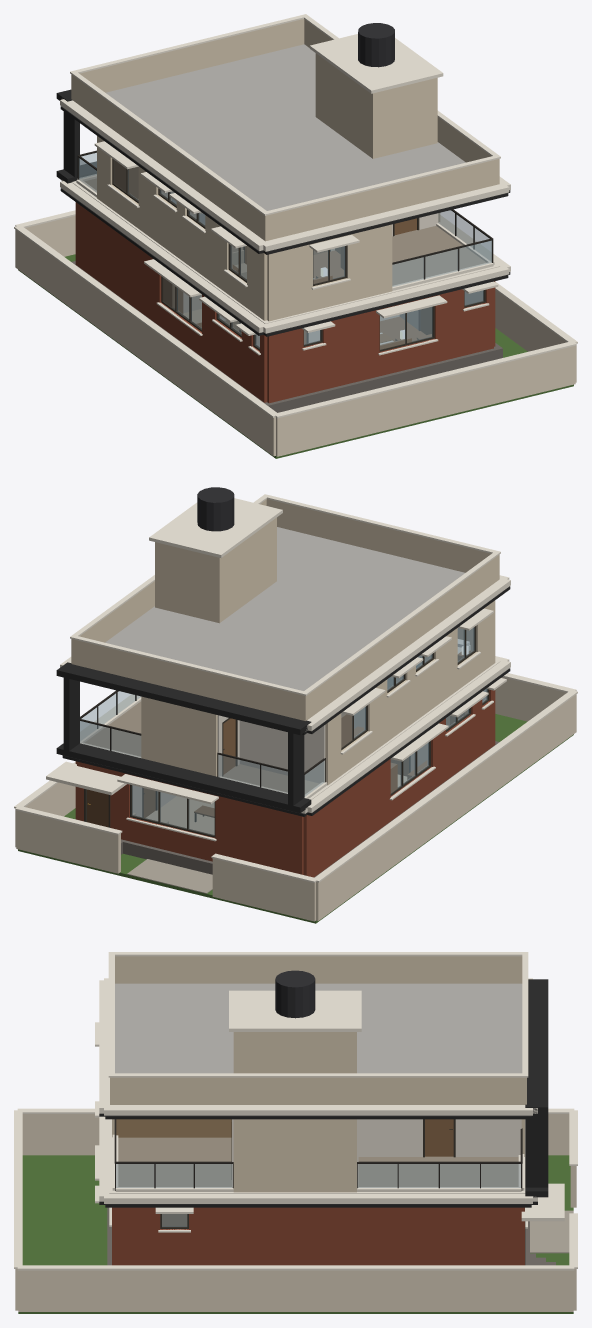
File: house3.glb
The picture shows the model from 3 angles, top to bottom: view 1: azimuth 30°, elevation 25°; view 2: azimuth 150°, elevation 25°; view 3: azimuth 270°, elevation 25°; orthographic projection. The views are drawn at different scales.
Parts seen in each view (by area): view 1: roof__plaster, roof__roof_screed, site__compound_wall, level_0__structure__brick, level_1__structure__plaster, roof__concrete_band, level_0__facade__concrete_band, level_1__facade__concrete_band, site__concrete_band, level_1__structure__concrete_band, level_1__structure__railing_glass, level_1__floors__floor_outdoor (+17 smaller); view 2: roof__plaster, roof__roof_screed, site__compound_wall, level_0__structure__brick, level_1__structure__plaster, level_1__facade__exterior_accent, roof__concrete_band, level_0__facade__concrete_band, site__concrete_band, level_1__structure__railing_glass, level_0__structure__glass, level_1__structure__paint_circulation (+18 smaller); view 3: site__compound_wall, roof__plaster, roof__roof_screed, level_0__structure__brick, site__lawn, roof__concrete_band, level_1__floors__floor_outdoor, level_1__structure__plaster, level_1__facade__exterior_accent, level_1__structure__railing_glass, level_0__facade__concrete_band, site__concrete_band (+11 smaller).
Boxes of the visible parts, <box> form: roof__plaster: <box>71,19,499,241</box>; roof__roof_screed: <box>105,44,465,210</box>; site__compound_wall: <box>15,215,576,456</box>; level_0__structure__brick: <box>75,202,495,403</box>; level_1__structure__plaster: <box>97,136,440,321</box>; roof__concrete_band: <box>70,14,500,215</box>; level_0__facade__concrete_band: <box>60,179,510,333</box>; level_1__facade__concrete_band: <box>60,98,510,251</box>; site__concrete_band: <box>14,210,577,418</box>; level_1__structure__concrete_band: <box>71,141,500,323</box>; level_1__structure__railing_glass: <box>79,153,491,286</box>; level_1__floors__floor_outdoor: <box>84,178,486,285</box>; roof__plaster: <box>71,499,499,720</box>; roof__roof_screed: <box>105,527,464,690</box>; site__compound_wall: <box>15,677,576,921</box>; level_0__structure__brick: <box>75,689,495,877</box>; level_1__structure__plaster: <box>141,600,495,785</box>; level_1__facade__exterior_accent: <box>56,586,510,813</box>; roof__concrete_band: <box>70,494,500,695</box>; level_0__facade__concrete_band: <box>46,656,510,813</box>; site__concrete_band: <box>14,673,577,882</box>; level_1__structure__railing_glass: <box>80,691,324,796</box>; level_0__structure__glass: <box>132,689,487,835</box>; level_1__structure__paint_circulation: <box>217,715,325,783</box>; site__compound_wall: <box>15,1114,576,1311</box>; roof__plaster: <box>110,956,526,1104</box>; roof__roof_screed: <box>115,983,522,1073</box>; level_0__structure__brick: <box>112,1207,524,1265</box>; site__lawn: <box>18,1155,573,1313</box>; roof__concrete_band: <box>108,952,528,1077</box>; level_1__floors__floor_outdoor: <box>118,1137,518,1186</box>; level_1__structure__plaster: <box>112,1119,524,1192</box>; level_1__facade__exterior_accent: <box>99,979,548,1197</box>; level_1__structure__railing_glass: <box>116,1164,520,1187</box>; level_0__facade__concrete_band: <box>99,1116,564,1221</box>; site__concrete_band: <box>14,1108,577,1270</box>.
Bounding box in the file's own units: 12.28 × 10.69 × 18.28.
